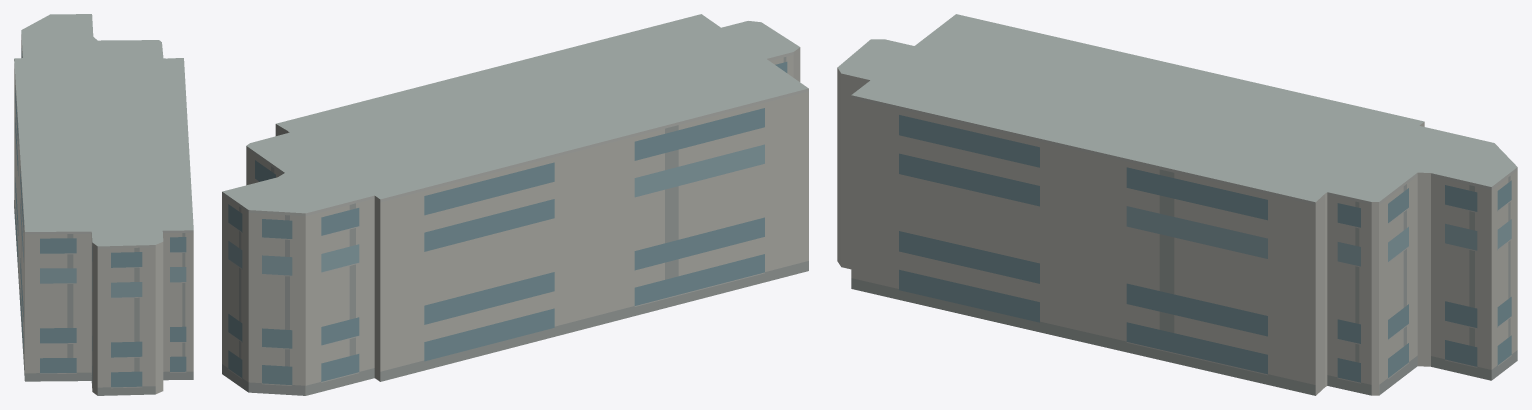
The model's file is survey-upis-32820199.glb.
3 renders of one model, left to right at view 1: azimuth 30°, elevation 25°; view 2: azimuth 150°, elevation 25°; view 3: azimuth 270°, elevation 25°, orthographic. The views are drawn at different scales.
Visible parts, largest first — view 1: survey-upis-32820199.tmp; view 2: survey-upis-32820199.tmp; view 3: survey-upis-32820199.tmp.
Part boxes in pixels (left/top/right/bottom): survey-upis-32820199.tmp: left=14, top=14, right=193, bottom=395; survey-upis-32820199.tmp: left=222, top=14, right=808, bottom=395; survey-upis-32820199.tmp: left=837, top=14, right=1517, bottom=395.
Size of the model in its own units: 31.81 by 15.25 by 48.56.
